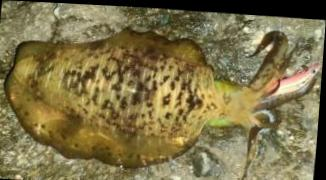Cephalopod: (5, 24, 318, 180)
